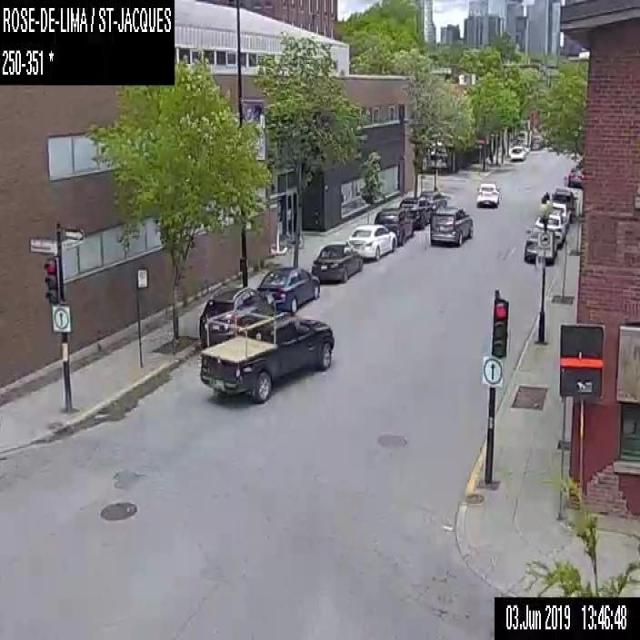vehicle: (196, 305, 332, 403), (198, 286, 277, 353), (255, 264, 321, 312), (310, 242, 362, 284), (344, 225, 394, 262), (431, 206, 473, 247), (374, 206, 414, 243), (524, 225, 556, 264), (534, 208, 565, 248), (397, 194, 432, 227), (552, 187, 576, 223), (418, 188, 448, 210), (548, 199, 570, 228), (475, 180, 500, 205), (567, 168, 582, 188), (508, 144, 526, 160)
